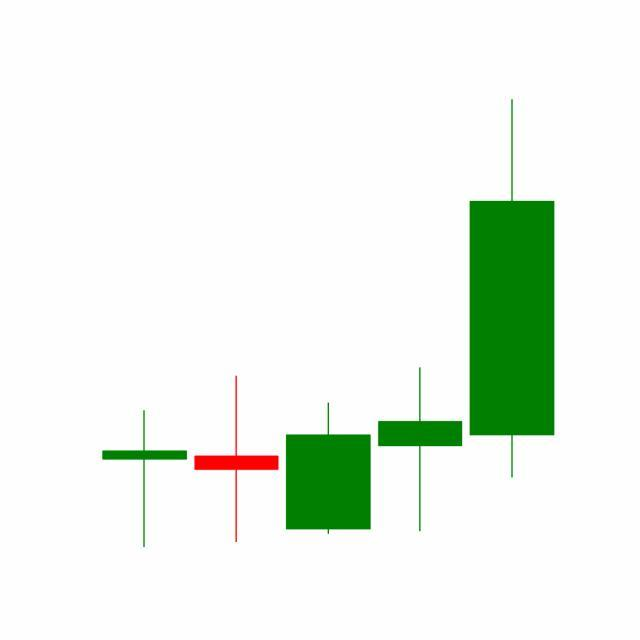Three Outside Up-Down: (190, 366, 467, 545)
